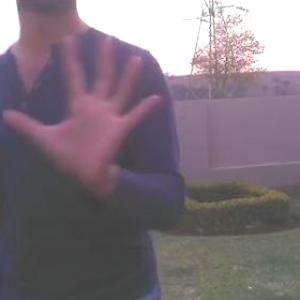follow_hand: (5, 31, 166, 180)
